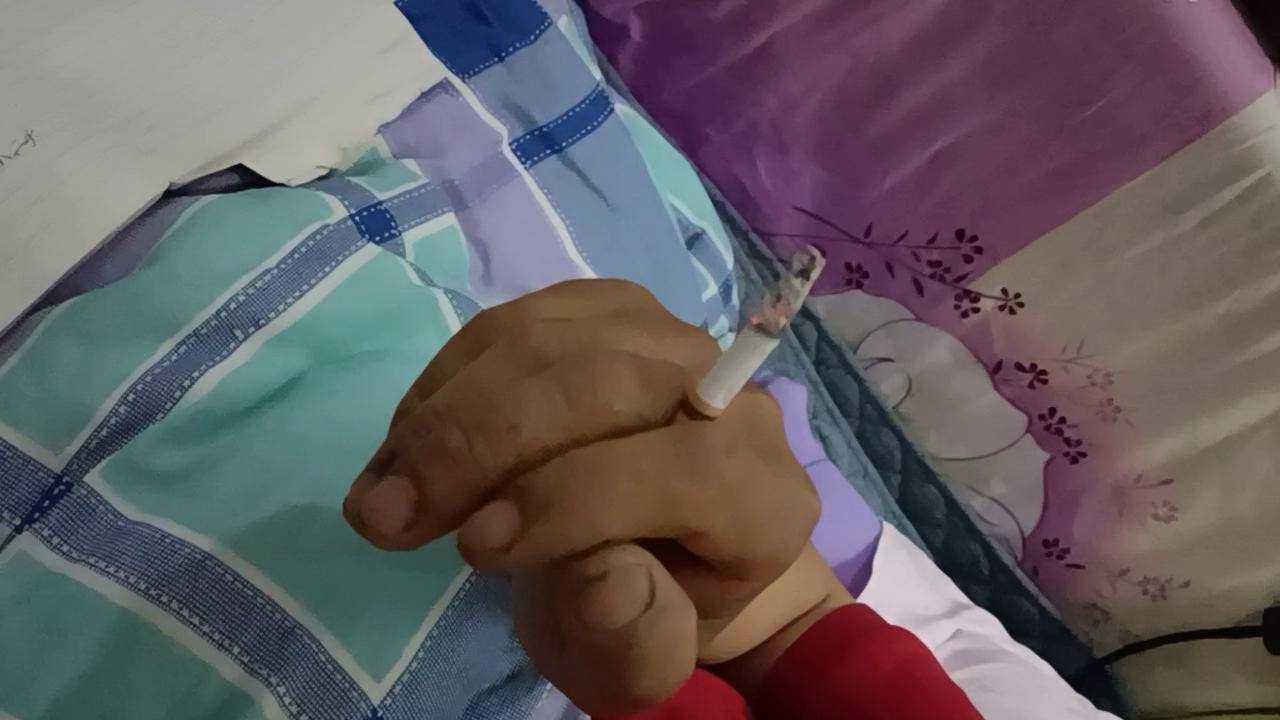smoke: (658, 242, 830, 467)
